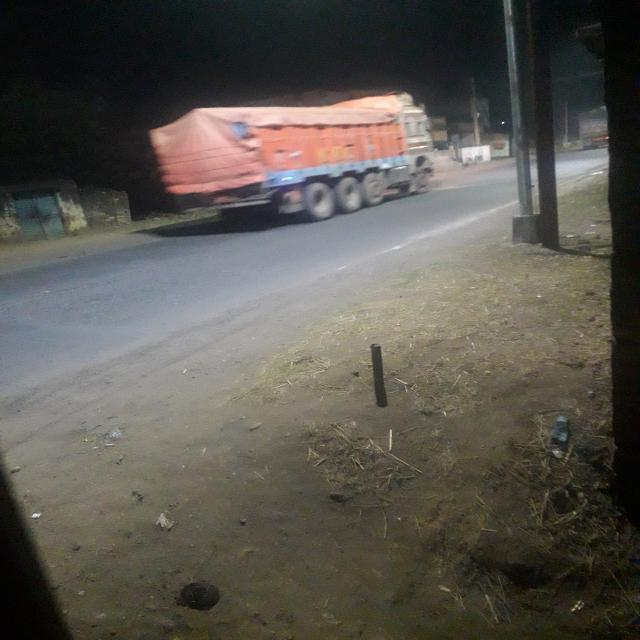truck_back: (141, 89, 441, 228)
